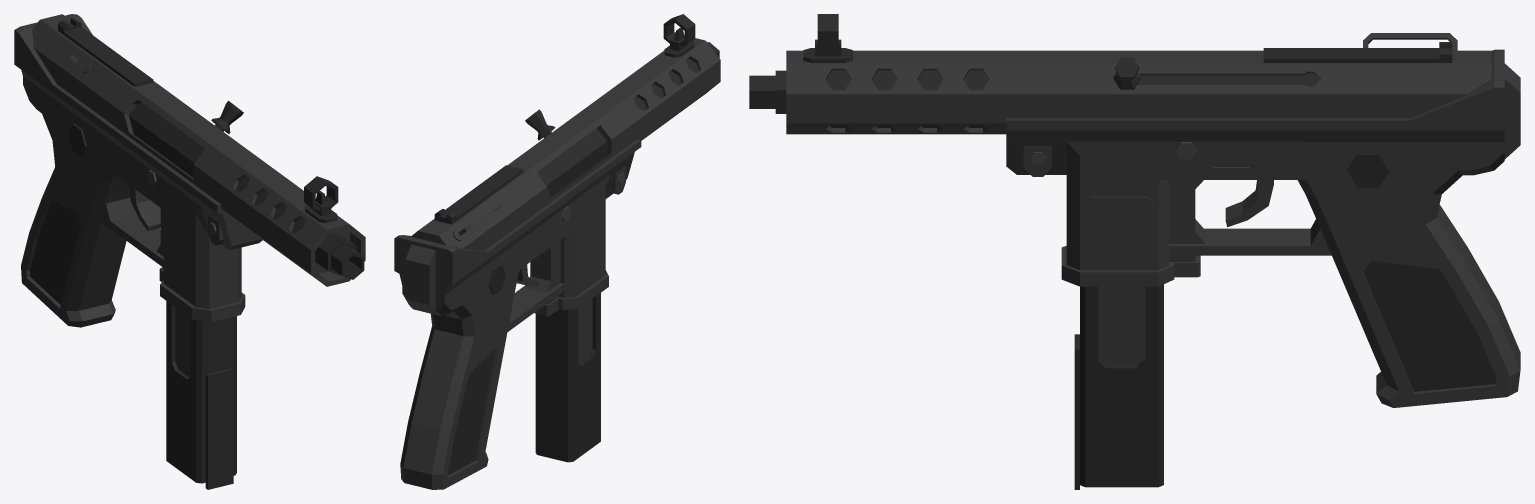
Rendered from Pistol_A.fbx.
3 views of the same model, side by side, from view 1: azimuth 30°, elevation 25°; view 2: azimuth 150°, elevation 25°; view 3: azimuth 270°, elevation 25° (orthographic). The views are drawn at different scales.
Visible parts, largest first — view 1: Pistol_A_Receiver, Pistol_A_BarrelGuard, Pistol_A_Mag, Pistol_A_Barrel, Pistol_A_Trigger, Pistol_A_Bolt; view 2: Pistol_A_Receiver, Pistol_A_BarrelGuard, Pistol_A_Mag, Pistol_A_Bolt; view 3: Pistol_A_Receiver, Pistol_A_BarrelGuard, Pistol_A_Mag, Pistol_A_Barrel, Pistol_A_Trigger.
Boxes of the visible parts, bbox=[...] form: Pistol_A_Receiver: bbox=[14, 14, 262, 327]; Pistol_A_BarrelGuard: bbox=[32, 14, 365, 286]; Pistol_A_Mag: bbox=[166, 301, 236, 489]; Pistol_A_Barrel: bbox=[315, 232, 364, 279]; Pistol_A_Trigger: bbox=[129, 185, 160, 230]; Pistol_A_Bolt: bbox=[211, 100, 243, 133]; Pistol_A_Receiver: bbox=[394, 139, 641, 489]; Pistol_A_BarrelGuard: bbox=[411, 14, 720, 250]; Pistol_A_Mag: bbox=[535, 293, 600, 462]; Pistol_A_Bolt: bbox=[525, 109, 555, 140]; Pistol_A_Receiver: bbox=[1006, 49, 1520, 407]; Pistol_A_BarrelGuard: bbox=[786, 14, 1491, 134]; Pistol_A_Mag: bbox=[1074, 284, 1163, 489]; Pistol_A_Barrel: bbox=[749, 70, 786, 113]; Pistol_A_Trigger: bbox=[1225, 180, 1273, 227].
Size of the model in its own units: 0.0497 by 0.2462 by 0.3675.
